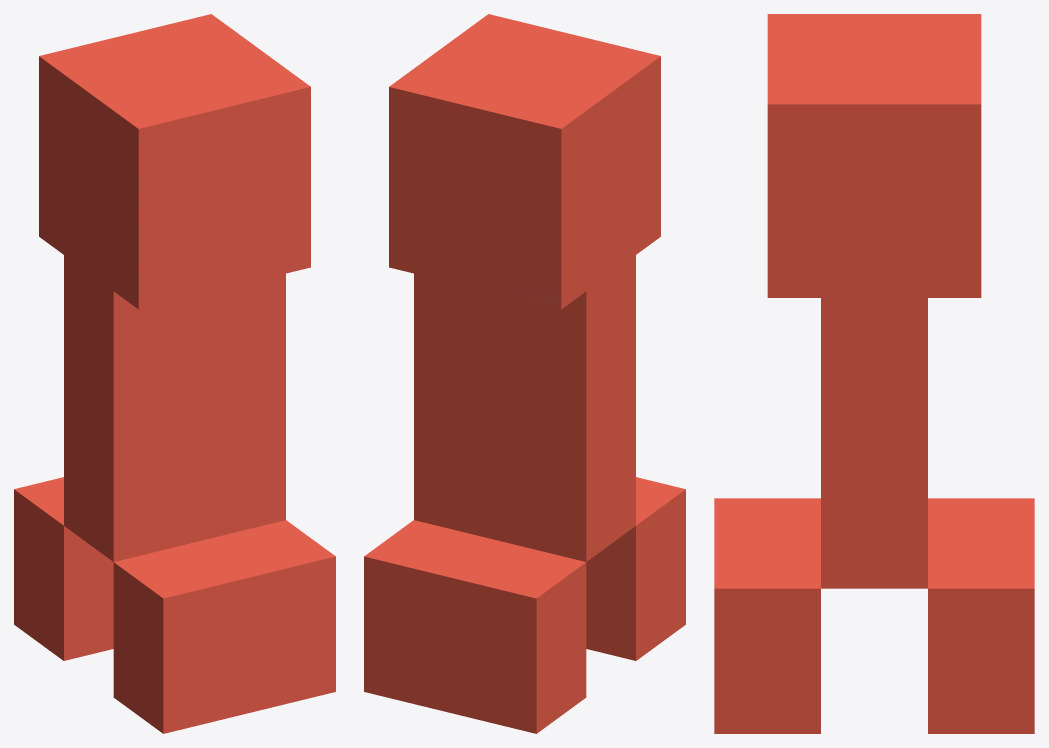
Rendered from creeper.obj.
The picture shows the model from 3 angles, left to right: view 1: azimuth 30°, elevation 25°; view 2: azimuth 150°, elevation 25°; view 3: azimuth 270°, elevation 25°; orthographic projection. The views are drawn at different scales.
Visible parts, largest first — view 1: Creeper_Cube.002; view 2: Creeper_Cube.002; view 3: Creeper_Cube.002.
Boxes of the visible parts, left/top/right/bottom form: Creeper_Cube.002: left=14, top=14, right=335, bottom=733; Creeper_Cube.002: left=364, top=14, right=685, bottom=733; Creeper_Cube.002: left=714, top=14, right=1034, bottom=733.
Bounding box in the file's own units: 0.6616 × 2.15 × 0.9924.
